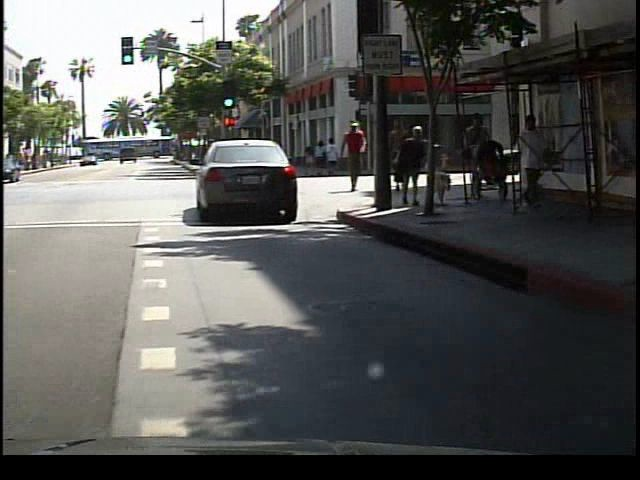person: (342, 115, 376, 198), (383, 112, 414, 195)
